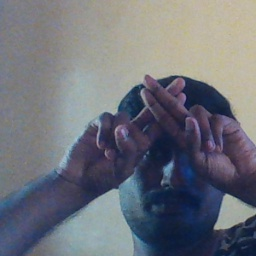F: (115, 70, 222, 168)
